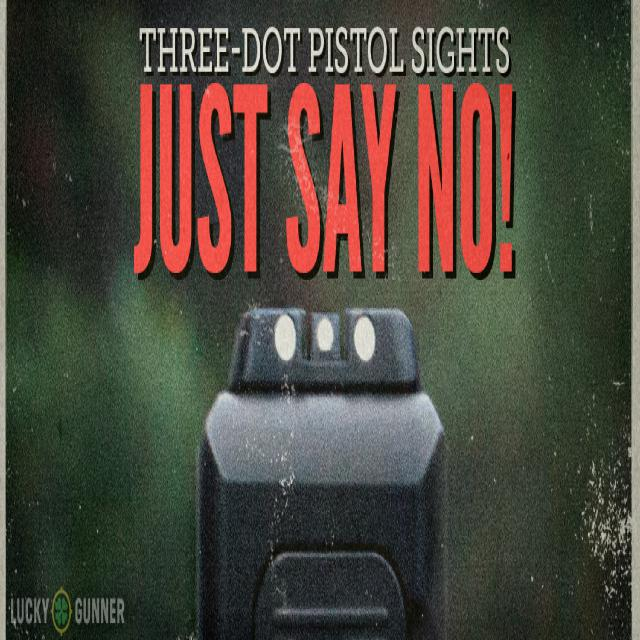handgun: (197, 301, 447, 639)
